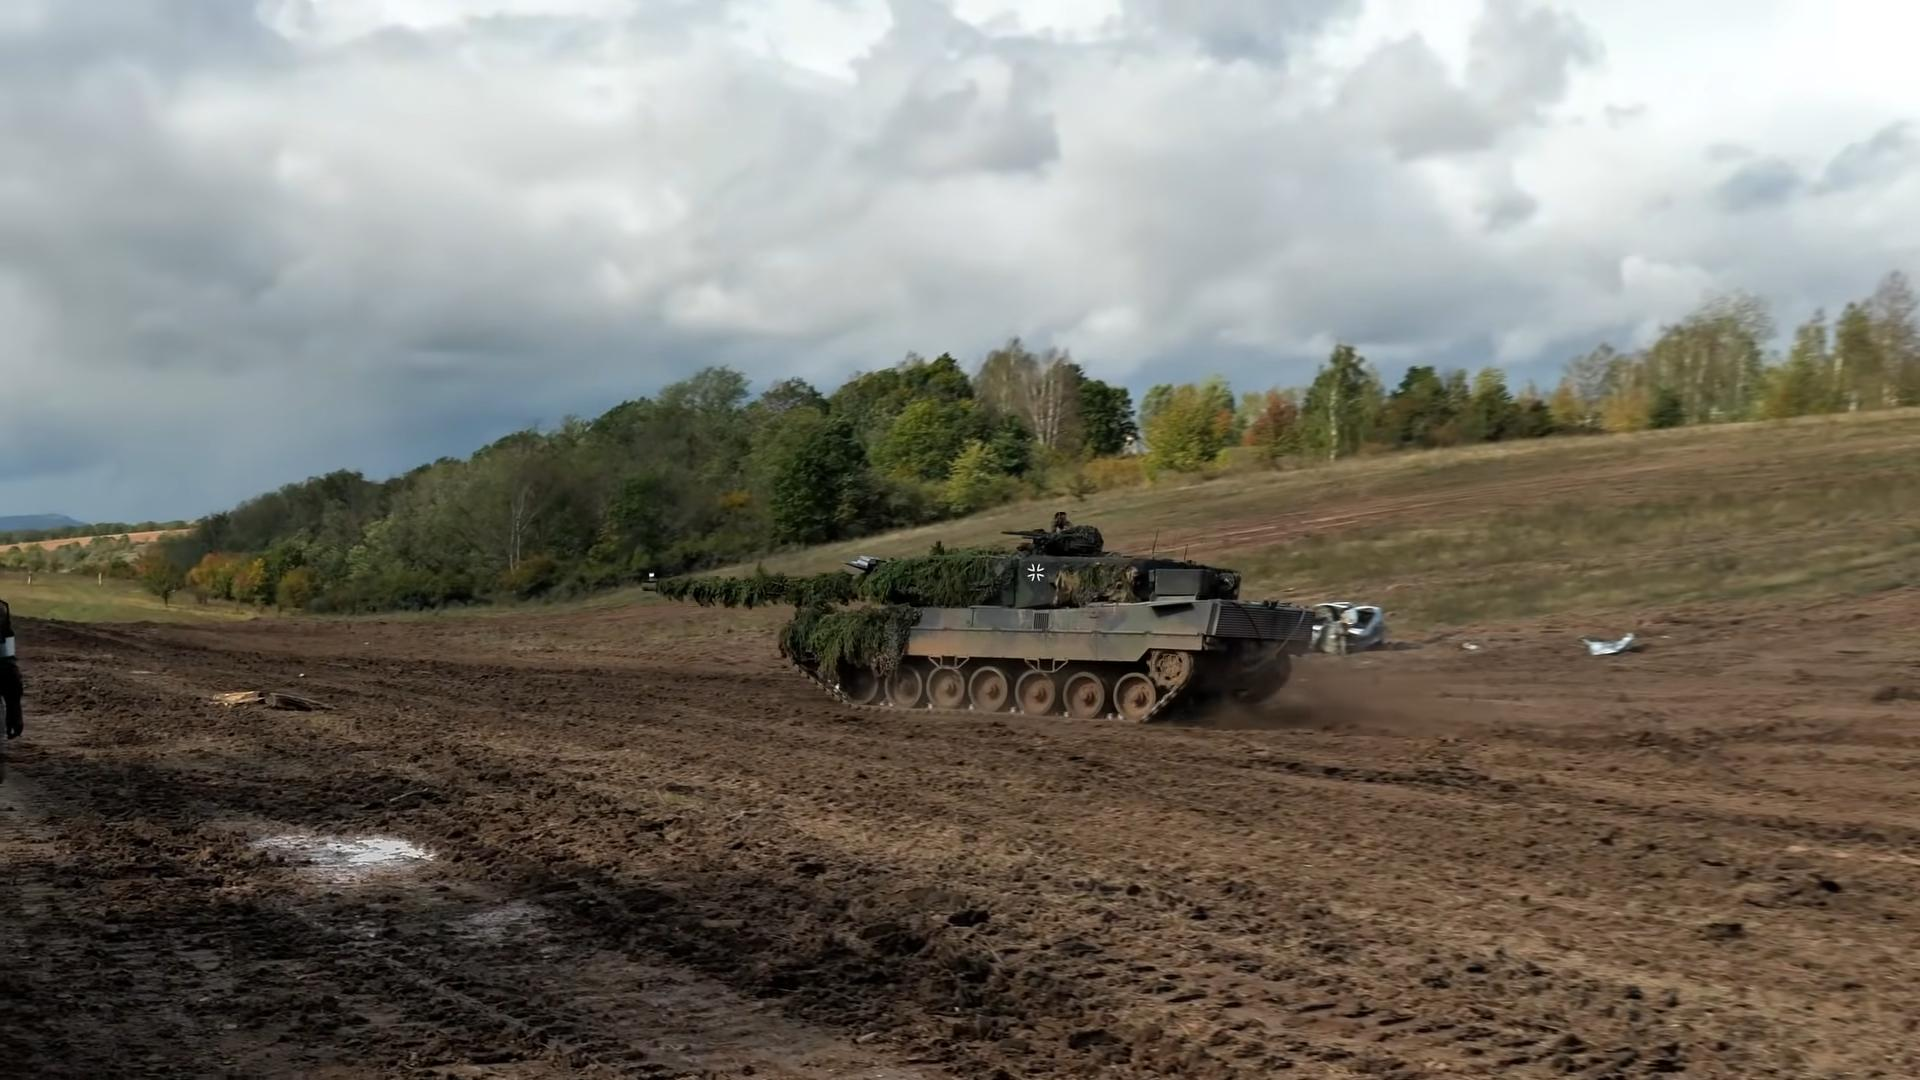tank: (644, 529, 1315, 717)
